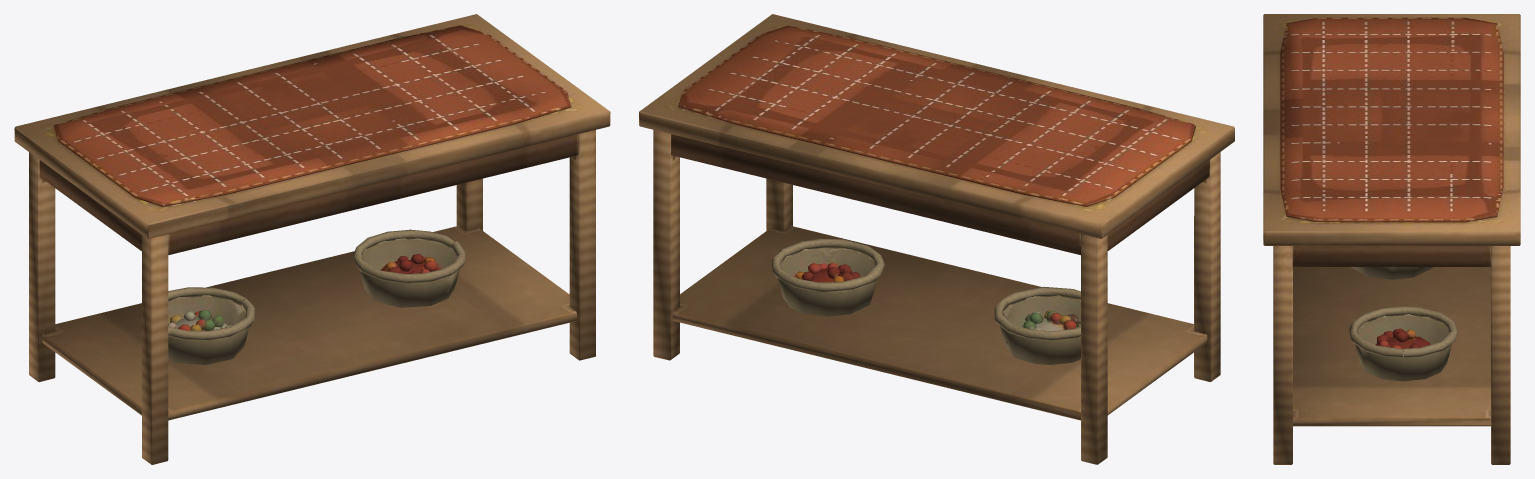
File: work_table_rust.glb
The picture shows the model from 3 angles, left to right: view 1: azimuth 30°, elevation 25°; view 2: azimuth 150°, elevation 25°; view 3: azimuth 270°, elevation 25°; orthographic projection. The views are drawn at different scales.
Visible parts, largest first — view 1: prop_work_table_rust_wood, prop_work_table_rust_felt; view 2: prop_work_table_rust_wood, prop_work_table_rust_felt; view 3: prop_work_table_rust_wood, prop_work_table_rust_felt.
Part boxes in pixels (<box>): prop_work_table_rust_wood: <box>14,14,610,464</box>; prop_work_table_rust_felt: <box>53,25,571,364</box>; prop_work_table_rust_wood: <box>639,14,1234,464</box>; prop_work_table_rust_felt: <box>678,25,1195,364</box>; prop_work_table_rust_wood: <box>1263,14,1520,464</box>; prop_work_table_rust_felt: <box>1280,17,1503,381</box>.
Size of the model in its own units: 1.8 by 0.937 by 0.8991.
2 materials, 2 textured.
